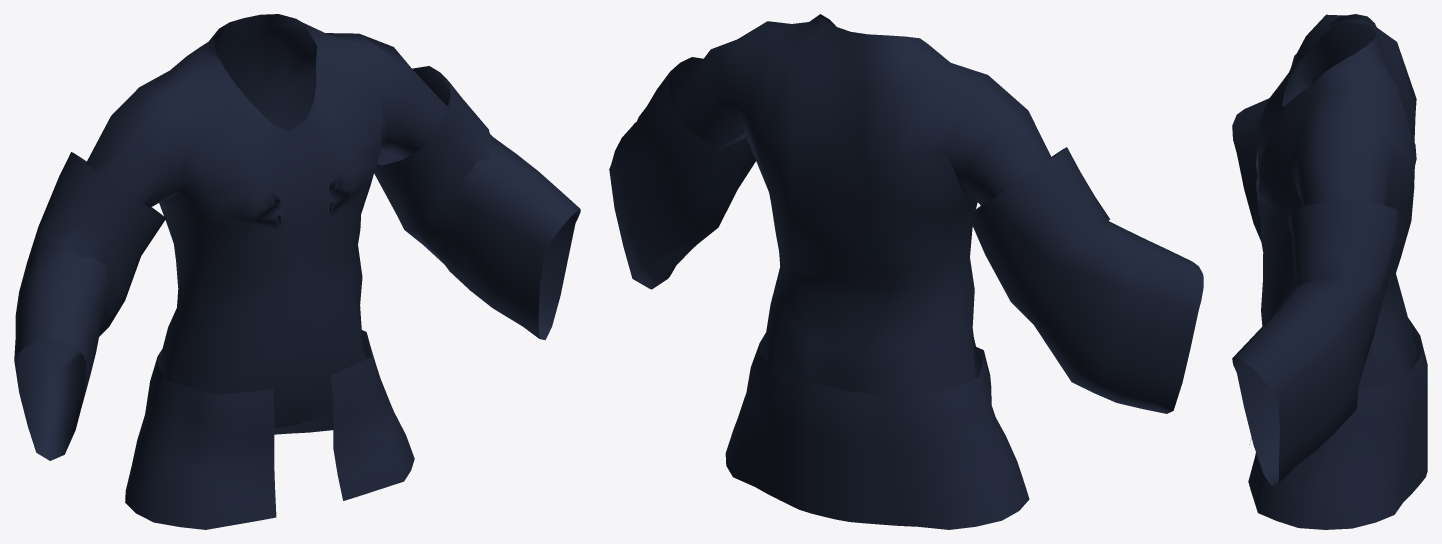
File: haori.glb
The picture shows the model from 3 angles, left to right: view 1: azimuth 30°, elevation 25°; view 2: azimuth 150°, elevation 25°; view 3: azimuth 270°, elevation 25°; orthographic projection. The views are drawn at different scales.
Visible parts, largest first — view 1: haori; view 2: haori; view 3: haori.
Boxes of the visible parts, left/top/right/bottom form: haori: left=14, top=14, right=580, bottom=529; haori: left=609, top=14, right=1203, bottom=529; haori: left=1232, top=14, right=1427, bottom=529.
Size of the model in its own units: 1.02 by 0.7712 by 0.3142.
